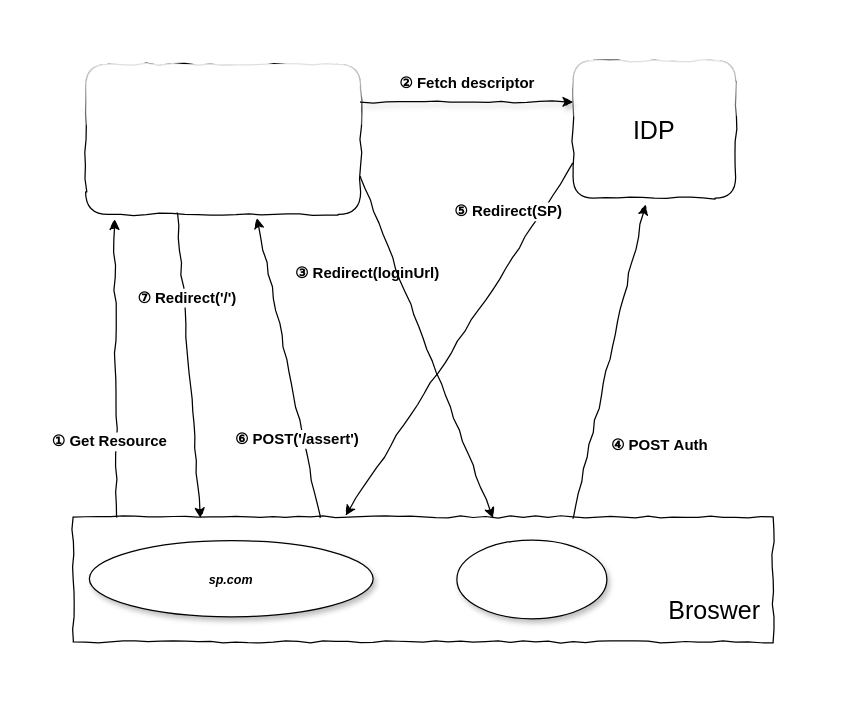
The diagram is 845 pixels wide and 701 high, and some of its shapes have lost their labels. The centre of each missing label's shape, as x and y in pixels:
"SP" belongs at point (222, 138).
"sso.com" belongs at point (532, 581).
